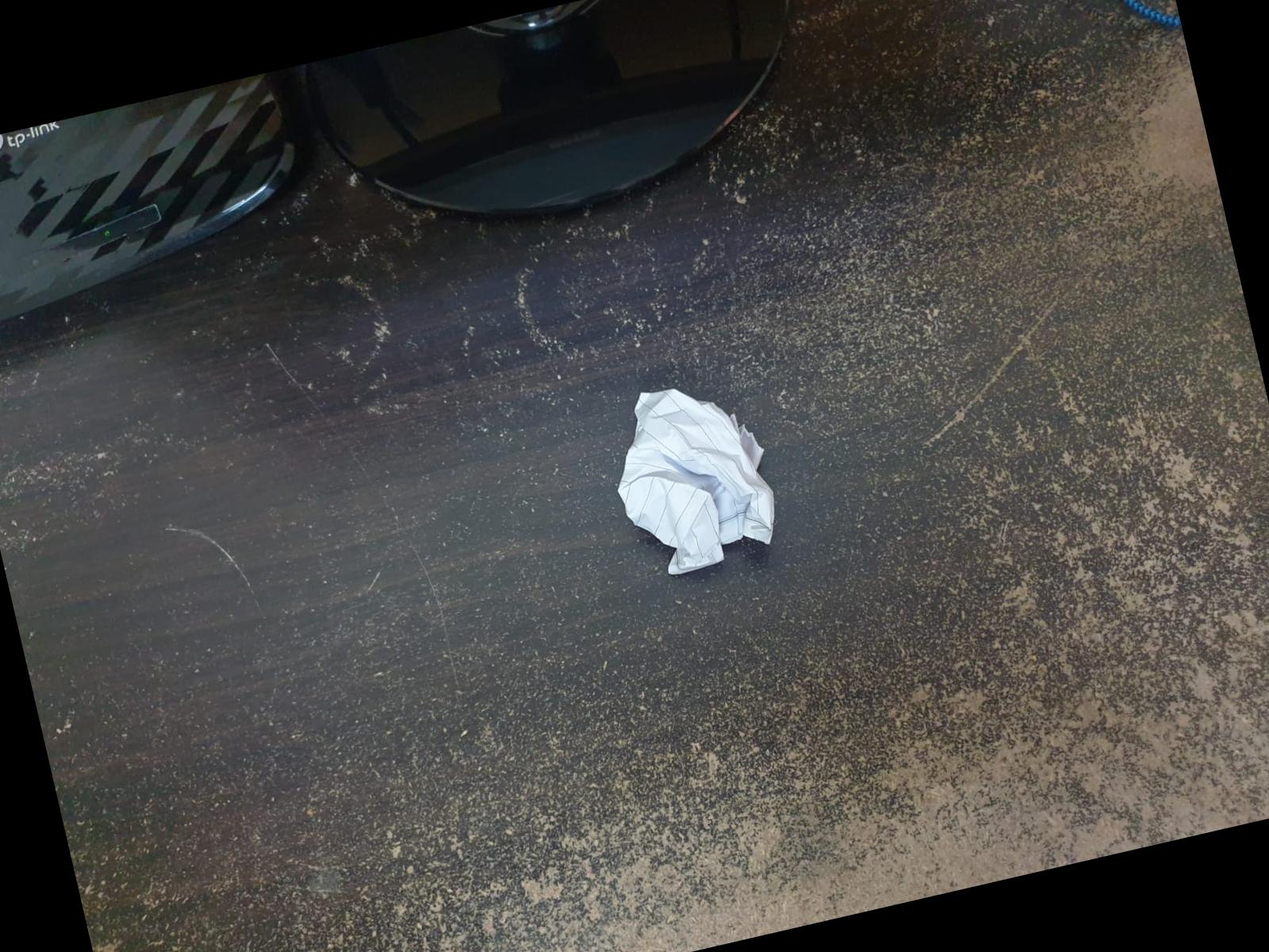Kertas: (615, 387, 775, 586)
